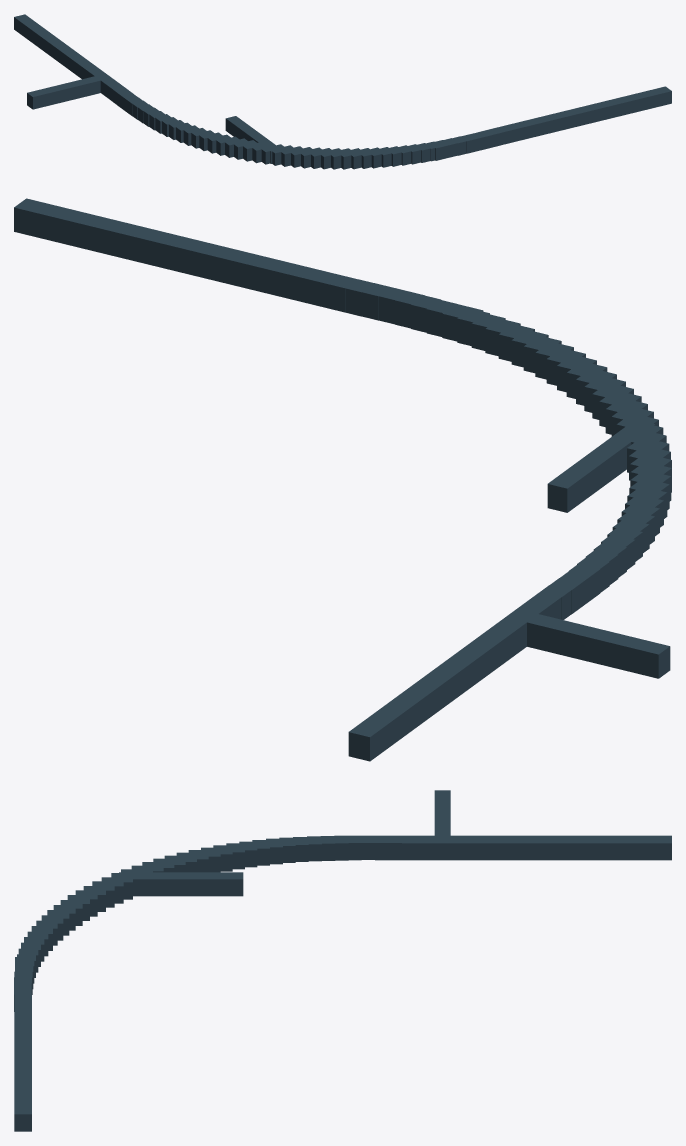
Rendered from v02-transit-world-01-03-08.glb.
The picture shows the model from 3 angles, top to bottom: view 1: azimuth 30°, elevation 25°; view 2: azimuth 150°, elevation 25°; view 3: azimuth 270°, elevation 25°; orthographic projection. The views are drawn at different scales.
Visible parts, largest first — view 1: v02-transit-world-01-03-08; view 2: v02-transit-world-01-03-08; view 3: v02-transit-world-01-03-08.
Part boxes in pixels (x1,y1,x2,y2): v02-transit-world-01-03-08: (14,14,671,169); v02-transit-world-01-03-08: (14,198,671,761); v02-transit-world-01-03-08: (14,790,671,1131).
Bounding box in the file's own units: 56.82 × 1.4 × 48.76.
